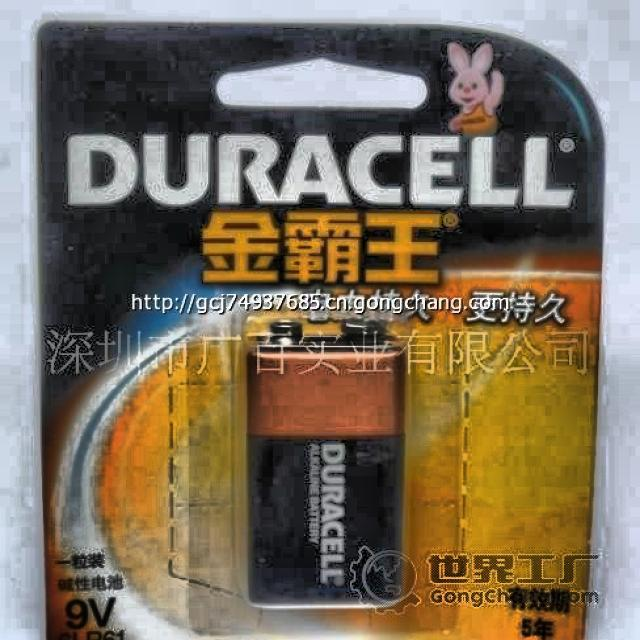Non-Valuable Waste - Batteries: (248, 322, 405, 606)
